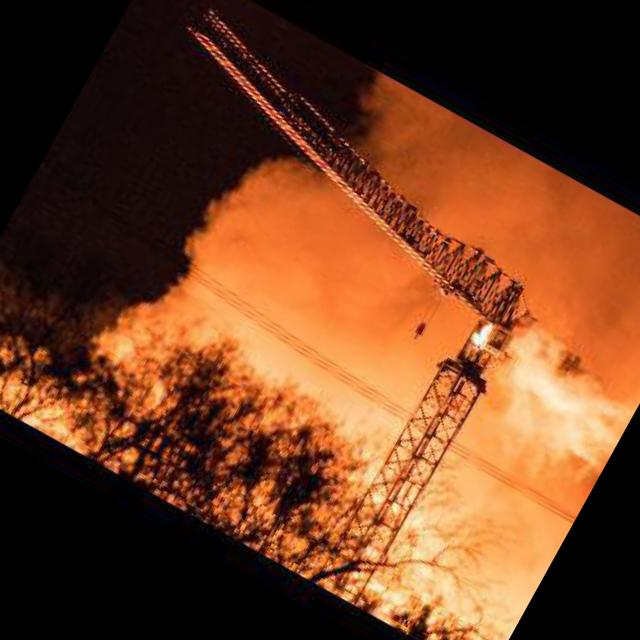fire: (466, 305, 640, 483)
